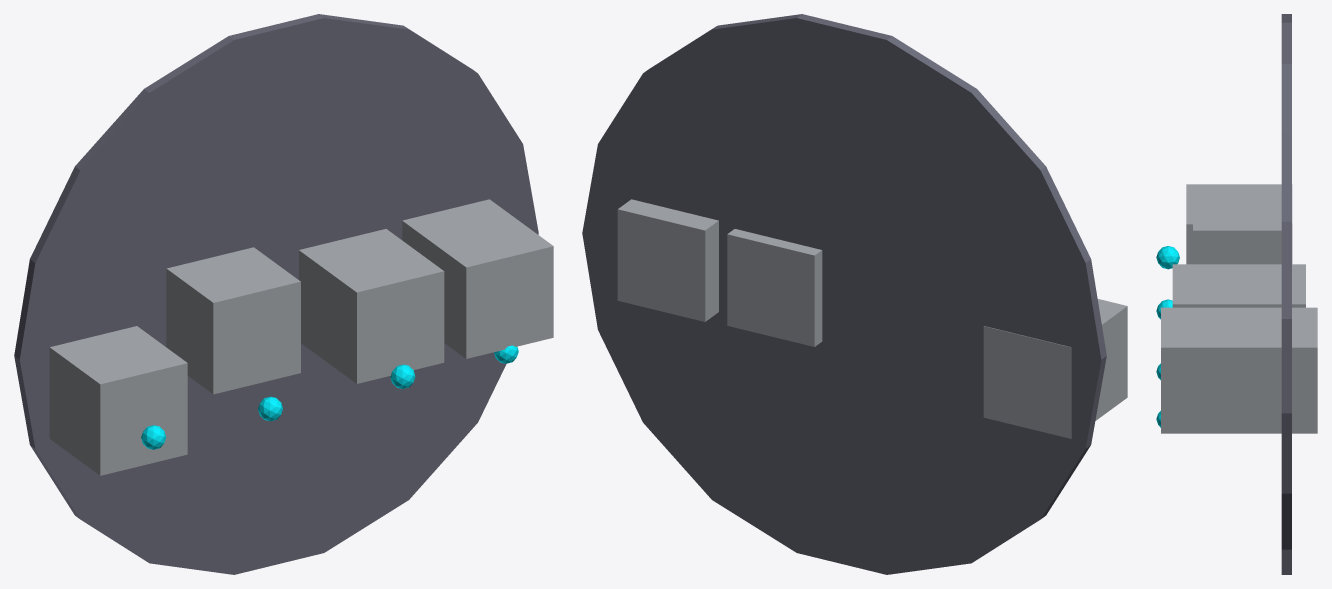
File: 03_ambient_object_cluster.glb
3 renders of one model, left to right at view 1: azimuth 30°, elevation 25°; view 2: azimuth 150°, elevation 25°; view 3: azimuth 270°, elevation 25°, orthographic. The views are drawn at different scales.
Parts seen in each view (by area): view 1: scatter_base, tech_crate_2, tech_crate_0, tech_crate_3, tech_crate_1; view 2: scatter_base, tech_crate_0, tech_crate_3, tech_crate_2; view 3: tech_crate_3, tech_crate_1, scatter_base, tech_crate_2, tech_crate_0, status_light_0.
Boxes of the visible parts, x1,y1,x2,y2 form: scatter_base: [14, 14, 538, 574]; tech_crate_2: [299, 229, 444, 383]; tech_crate_0: [49, 326, 187, 475]; tech_crate_3: [402, 199, 553, 358]; tech_crate_1: [166, 247, 300, 394]; scatter_base: [582, 14, 1106, 574]; tech_crate_0: [983, 299, 1127, 438]; tech_crate_3: [617, 199, 718, 321]; tech_crate_2: [727, 229, 822, 346]; tech_crate_3: [1161, 307, 1317, 433]; tech_crate_1: [1193, 190, 1281, 264]; scatter_base: [1281, 14, 1291, 574]; tech_crate_2: [1172, 264, 1305, 307]; tech_crate_0: [1186, 184, 1292, 264]; status_light_0: [1156, 246, 1179, 269].
Size of the model in its own units: 1.9 by 1.87 by 0.5443.
